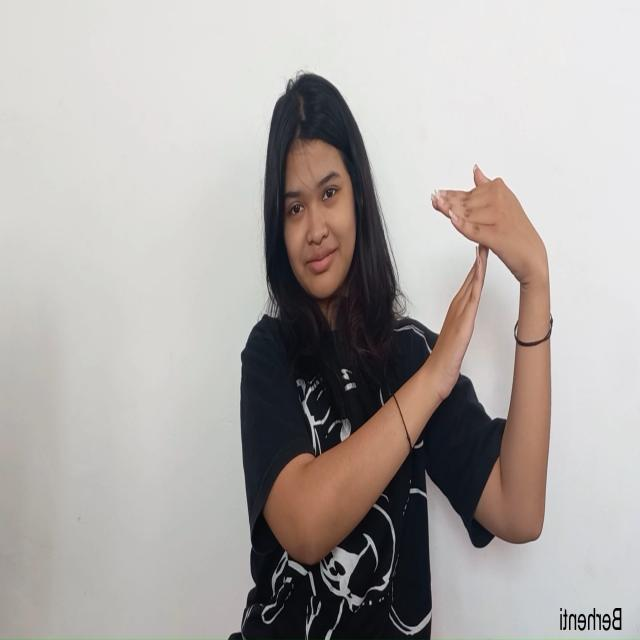Berhenti -BISINDO-: (428, 160, 555, 412)
